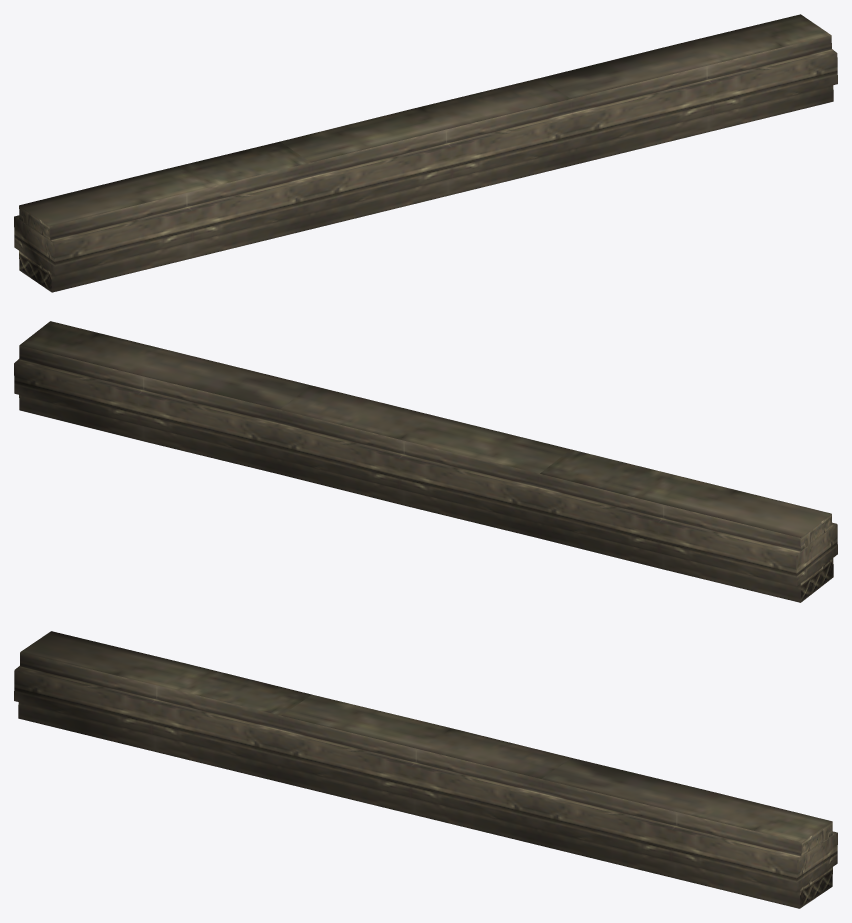
File: S_Build_Forest045.FBX
The picture shows the model from 3 angles, top to bottom: view 1: azimuth 30°, elevation 25°; view 2: azimuth 150°, elevation 25°; view 3: azimuth 330°, elevation 25°; orthographic projection.
Parts seen in each view (by area): view 1: S_Build_Forest045; view 2: S_Build_Forest045; view 3: S_Build_Forest045.
Boxes of the visible parts, left/top/right/bottom form: S_Build_Forest045: left=14, top=14, right=837, bottom=292; S_Build_Forest045: left=14, top=321, right=837, bottom=602; S_Build_Forest045: left=14, top=631, right=837, bottom=908.
Size of the model in its own units: 1487 by 141 by 123.
